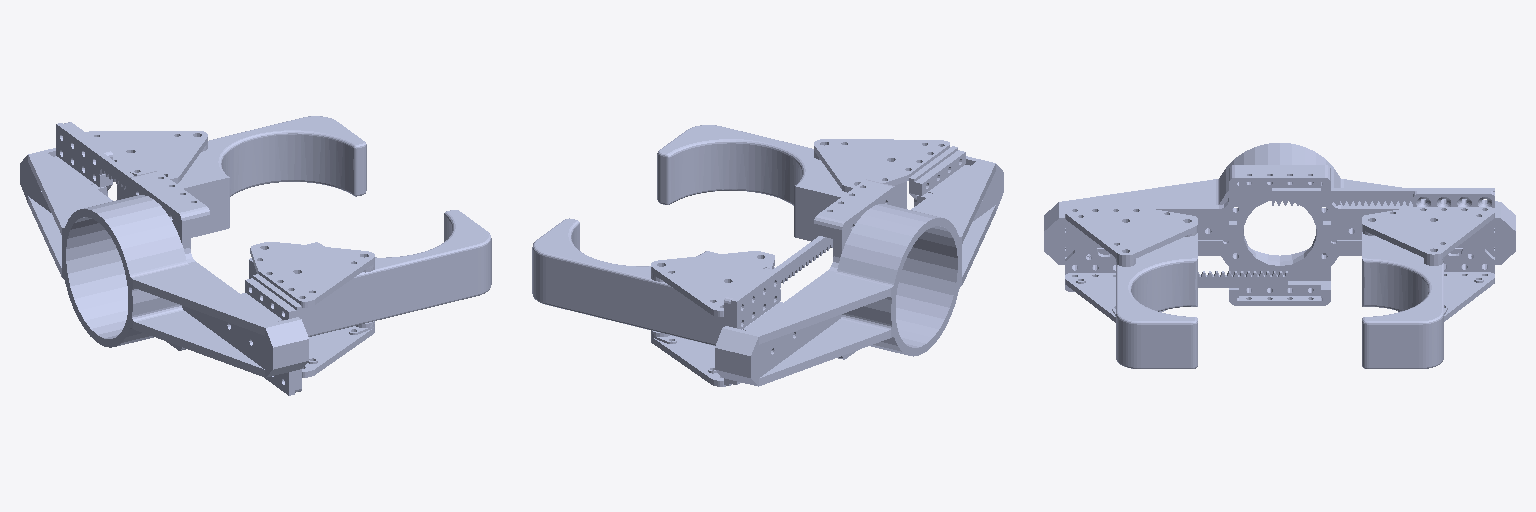
robot.urdf — gripper.SLDASM:
<?xml version="1.0" encoding="utf-8"?>
<!-- This URDF was automatically created by SolidWorks to URDF Exporter! Originally created by Stephen Brawner (brawner@gmail.com) 
     Commit Version: 1.6.0-4-g7f85cfe  Build Version: 1.6.7995.38578
     For more information, please see http://wiki.ros.org/sw_urdf_exporter -->
<robot
  name="gripper.SLDASM">
  <link
    name="gripper_base_link">
    <inertial>
      <origin
        xyz="0.024119 -0.00025348 1.4037E-05"
        rpy="0 0 0" />
      <mass
        value="0.10268" />
      <inertia
        ixx="4.2026E-05"
        ixy="-4.1834E-08"
        ixz="-5.3192E-10"
        iyy="3.0131E-05"
        iyz="2.7197E-08"
        izz="3.0109E-05" />
    </inertial>
    <visual>
      <origin
        xyz="0 0 0"
        rpy="0 0 0" />
      <geometry>
        <mesh
          filename="package://gripper_description/meshes/gripper_base_link.STL" />
      </geometry>
      <material
        name="">
        <color
          rgba="0.79216 0.81961 0.93333 1" />
      </material>
    </visual>
    <collision>
      <origin
        xyz="0 0 0"
        rpy="0 0 0" />
      <geometry>
        <mesh
          filename="package://gripper_description/meshes/gripper_base_link.STL" />
      </geometry>
    </collision>
  </link>
  <link
    name="grippeer_Link">
    <inertial>
      <origin
        xyz="0.040428 -0.00017354 1.2493E-05"
        rpy="0 0 0" />
      <mass
        value="0.093865" />
      <inertia
        ixx="0.00022061"
        ixy="1.0893E-19"
        ixz="3.8261E-21"
        iyy="2.9769E-05"
        iyz="-2.4504E-16"
        izz="0.00019995" />
    </inertial>
    <visual>
      <origin
        xyz="0 0 0"
        rpy="0 0 0" />
      <geometry>
        <mesh
          filename="package://gripper_description/meshes/grippeer_Link.STL" />
      </geometry>
      <material
        name="">
        <color
          rgba="0.79216 0.81961 0.93333 1" />
      </material>
    </visual>
    <collision>
      <origin
        xyz="0 0 0"
        rpy="0 0 0" />
      <geometry>
        <mesh
          filename="package://gripper_description/meshes/grippeer_Link.STL" />
      </geometry>
    </collision>
  </link>
  <joint
    name="joint_gripper"
    type="fixed">
    <origin
      xyz="0 0 0"
      rpy="0 0 0" />
    <parent
      link="gripper_base_link" />
    <child
      link="grippeer_Link" />
    <axis
      xyz="0 0 0" />
  </joint>
  <link
    name="right_finger_Link">
    <inertial>
      <origin
        xyz="0.032482 0.0068743 0.00084038"
        rpy="0 0 0" />
      <mass
        value="0.095586" />
      <inertia
        ixx="2.0674E-05"
        ixy="-5.6199E-06"
        ixz="-1.1351E-08"
        iyy="9.0681E-05"
        iyz="4.7589E-08"
        izz="0.0001011" />
    </inertial>
    <visual>
      <origin
        xyz="0 0 0"
        rpy="0 0 0" />
      <geometry>
        <mesh
          filename="package://gripper_description/meshes/right_finger_Link.STL" />
      </geometry>
      <material
        name="">
        <color
          rgba="0.79216 0.81961 0.93333 1" />
      </material>
    </visual>
    <collision>
      <origin
        xyz="0 0 0"
        rpy="0 0 0" />
      <geometry>
        <mesh
          filename="package://gripper_description/meshes/right_finger_Link.STL" />
      </geometry>
    </collision>
  </link>
  <joint
    name="joint_right_finger"
    type="prismatic">
    <origin
      xyz="0.071 0.059926 1.2493E-05"
      rpy="0 0 0" />
    <parent
      link="grippeer_Link" />
    <child
      link="right_finger_Link" />
    <axis
      xyz="0 1 0" />
    <limit
      lower="-0.065"
      upper="0"
      effort="2"
      velocity="2" />
  </joint>
  <link
    name="left_finger_Link">
    <inertial>
      <origin
        xyz="0.032717 -0.0068743 -0.00084038"
        rpy="0 0 0" />
      <mass
        value="0.095586" />
      <inertia
        ixx="2.0674E-05"
        ixy="5.6199E-06"
        ixz="1.1351E-08"
        iyy="9.0681E-05"
        iyz="4.7589E-08"
        izz="0.0001011" />
    </inertial>
    <visual>
      <origin
        xyz="0 0 0"
        rpy="0 0 0" />
      <geometry>
        <mesh
          filename="package://gripper_description/meshes/left_finger_Link.STL" />
      </geometry>
      <material
        name="">
        <color
          rgba="0.79216 0.81961 0.93333 1" />
      </material>
    </visual>
    <collision>
      <origin
        xyz="0 0 0"
        rpy="0 0 0" />
      <geometry>
        <mesh
          filename="package://gripper_description/meshes/left_finger_Link.STL" />
      </geometry>
    </collision>
  </link>
  <joint
    name="joint_left_finger"
    type="prismatic">
    <origin
      xyz="0 -0.1202 0"
      rpy="0 0 0" />
    <parent
      link="right_finger_Link" />
    <child
      link="left_finger_Link" />
    <axis
      xyz="0 1 0" />
    <limit
      lower="0"
      upper="0.065"
      effort="2"
      velocity="2" />
  </joint>
</robot>

--- Facts derived from the render (not from the file) ---
3 views of the same robot in one strip: view 1: azimuth 30°, elevation 25°; view 2: azimuth 150°, elevation 25°; view 3: azimuth 270°, elevation 25° (orthographic).
Robot: gripper.SLDASM — 4 links, 3 joints (2 prismatic, 1 fixed); root link gripper_base_link; default pose: every joint at zero.
Visible links, largest first — view 1: grippeer_Link, left_finger_Link, right_finger_Link; view 2: grippeer_Link, right_finger_Link, left_finger_Link; view 3: right_finger_Link, grippeer_Link, left_finger_Link.
Link boxes in pixels (<box>): grippeer_Link: <box>20,148,308,377</box>; left_finger_Link: <box>241,210,491,395</box>; right_finger_Link: <box>54,116,366,237</box>; grippeer_Link: <box>715,156,1003,386</box>; right_finger_Link: <box>532,218,832,386</box>; left_finger_Link: <box>657,125,969,241</box>; right_finger_Link: <box>1272,188,1494,368</box>; grippeer_Link: <box>1044,143,1515,305</box>; left_finger_Link: <box>1065,207,1287,368</box>.
Bounding box of the posed robot: 0.166 × 0.23 × 0.069 m (x, y, z).
3 mesh visuals loaded from 4 distinct referenced files (3 binary STL); not drawn: 1 (reference not matched to a file when rendering).
